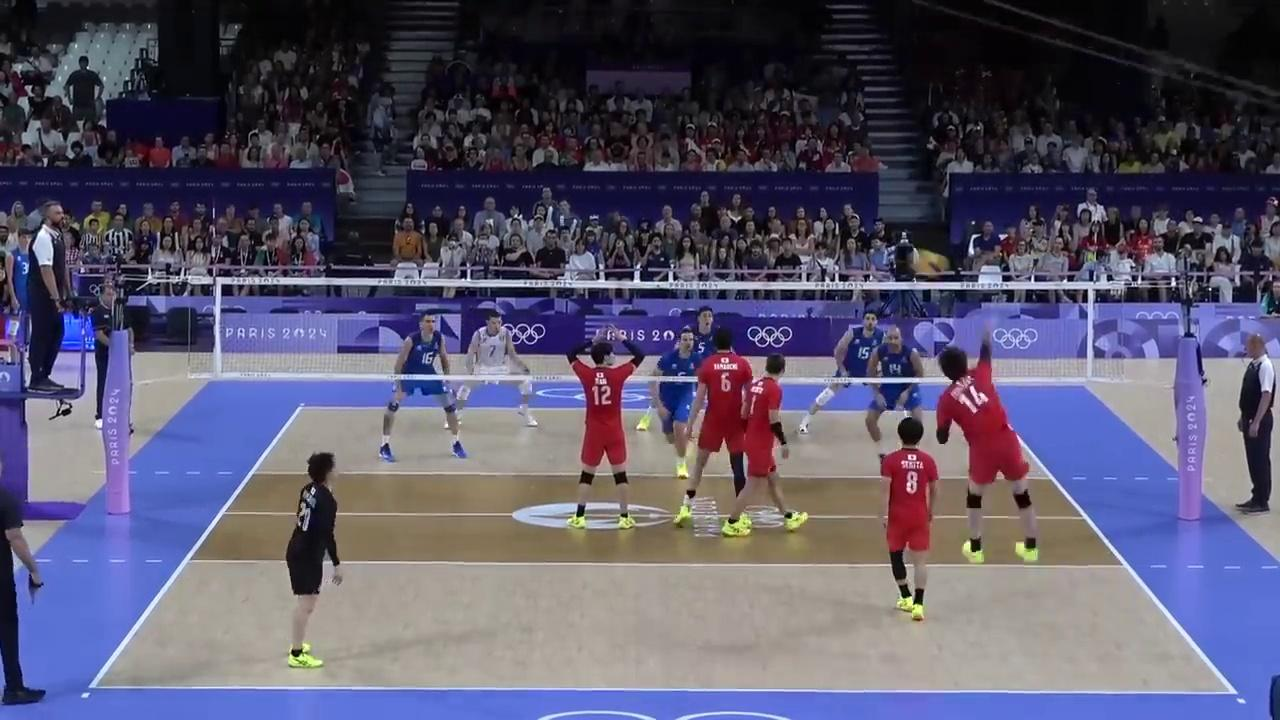ball: (917, 250, 947, 277)
